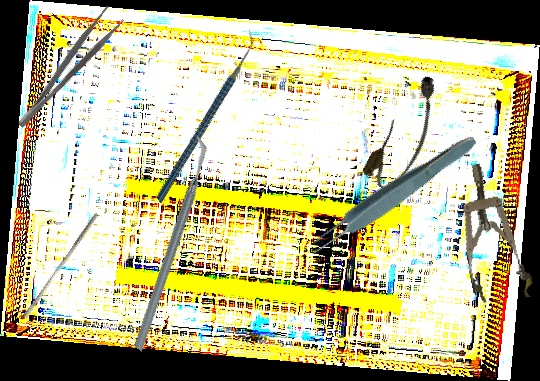Cannula: (359, 71, 455, 196)
Chopper: (63, 134, 276, 353), (110, 27, 299, 205)
Dressing Forceps: (5, 4, 127, 131)
Pusher: (22, 209, 99, 322)
Speculum: (447, 157, 536, 309)
Tissue Forceps: (302, 127, 482, 262)
